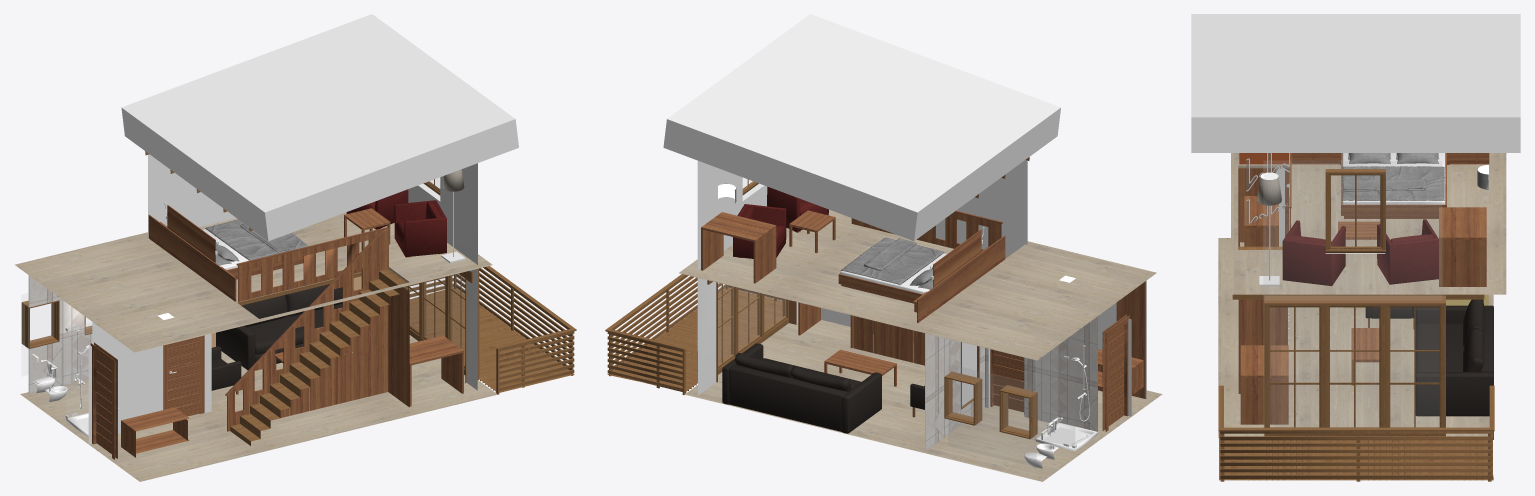
Rendered from room.glb.
3 views of the same model, side by side, from view 1: azimuth 30°, elevation 25°; view 2: azimuth 150°, elevation 25°; view 3: azimuth 270°, elevation 25° (orthographic). The views are drawn at different scales.
Visible parts, largest first — view 1: Walls, Floor_2, StairsSupport, Floor_1, Balcony, Stairs, Main_door, Sofa, Bathroom_walls, Bed, Bathroom_door, Chair2_001 (+10 smaller); view 2: Walls, Floor_2, Floor_1, Balcony, Bathroom_walls, Sofa, Window_001, Main_door, Bed, StairsSupport, Floor_2_table, Shower_window (+10 smaller); view 3: Walls, Window, Balcony, Floor_1, Floor_2, Sofa, Floor_1_Table, Floor_2_table, Bed_sheets, Chair2_001, Chair2, Main_door (+10 smaller).
Boxes of the visible parts, x1,y1,x2,y2 form: Walls: (88, 14, 518, 443); Floor_2: (15, 212, 492, 352); StairsSupport: (225, 227, 409, 431); Floor_1: (20, 335, 497, 481); Balcony: (403, 266, 576, 394); Stairs: (230, 268, 407, 445); Main_door: (90, 342, 189, 459); Sofa: (216, 284, 342, 370); Bathroom_walls: (28, 275, 197, 403); Bed: (148, 205, 303, 301); Bathroom_door: (163, 335, 204, 416); Chair2_001: (394, 200, 446, 256); Walls: (663, 14, 1146, 416); Floor_2: (679, 209, 1156, 360); Floor_1: (685, 320, 1162, 481); Balcony: (605, 274, 796, 394); Bathroom_walls: (925, 316, 1097, 450); Sofa: (722, 343, 881, 433); Window_001: (949, 364, 1035, 466); Main_door: (1098, 281, 1145, 431); Bed: (838, 229, 1005, 322); StairsSupport: (851, 210, 1014, 379); Floor_2_table: (701, 210, 835, 283); Shower_window: (1035, 346, 1074, 446); Walls: (1191, 14, 1520, 253); Window: (1264, 161, 1441, 426); Balcony: (1218, 294, 1494, 481); Floor_1: (1218, 238, 1493, 438); Floor_2: (1231, 153, 1506, 294); Sofa: (1415, 299, 1493, 416); Floor_1_Table: (1240, 328, 1379, 424); Floor_2_table: (1338, 207, 1486, 286); Bed_sheets: (1342, 166, 1444, 200); Chair2_001: (1282, 220, 1345, 286); Chair2: (1377, 219, 1438, 284); Main_door: (1238, 168, 1289, 249).
Size of what is drawn, in the model's own units: 9.66 by 6.18 by 5.5.
Materials: 19 (9 with a texture image).
